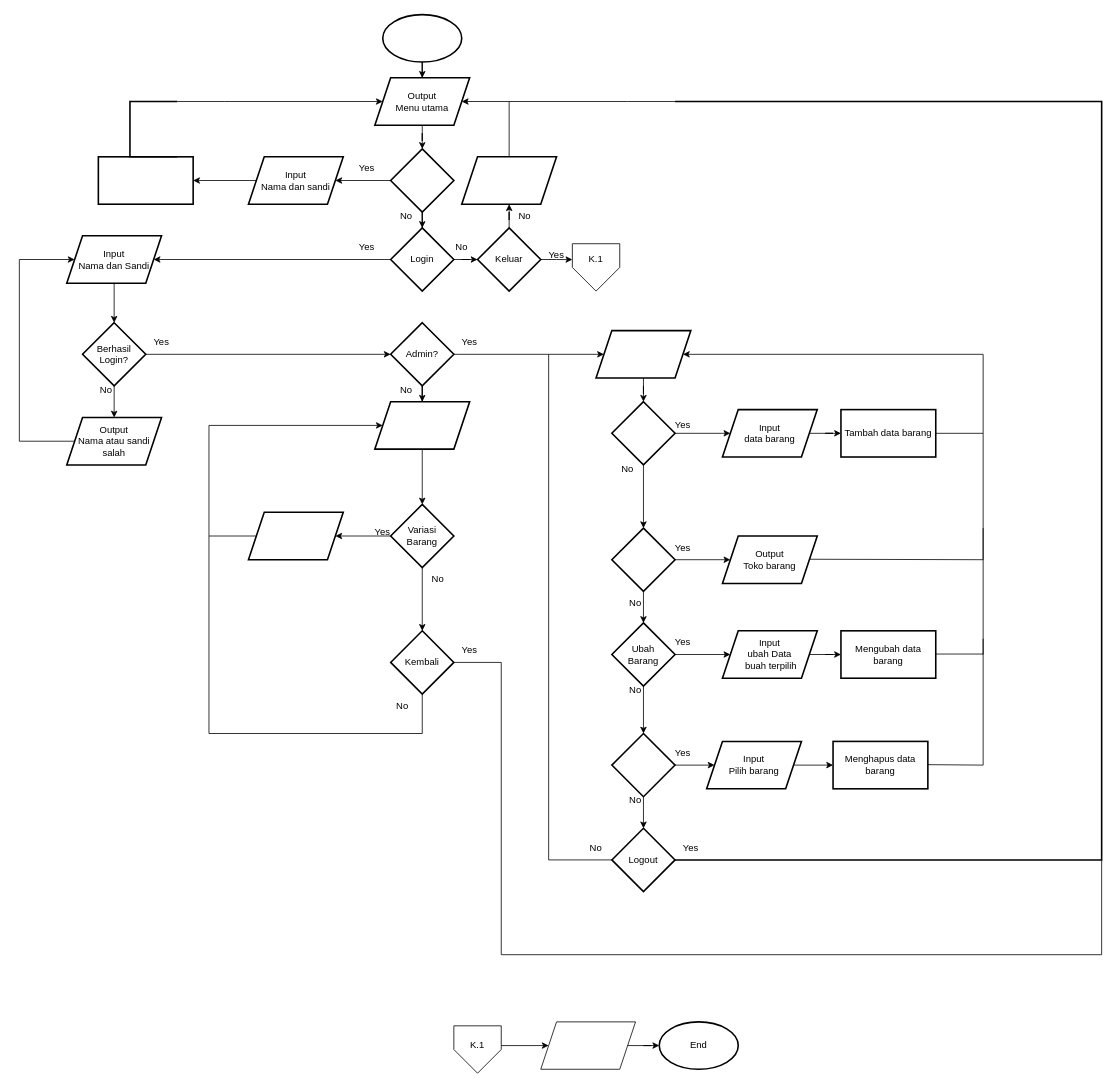
Image size: 1116x1087. Some labels were removed from this diagram. Here are the shapes that lost their labels. From the top down, the centre of each, then its label:
At [422,37]: "STAR".
At [145,180]: "Data simpan".
At [421,180]: "Register".
At [509,180]: "input tidak valid".
At [643,353]: "Output Menu Admin".
At [422,425]: "Output Menu User".
At [643,433]: "Tambah barang".
At [295,535]: "Output Tabel barang".
At [643,559]: "Tampilkan barang".
At [643,764]: "Hapus barang".
At [588,1045]: "Output Program Berhenti".
